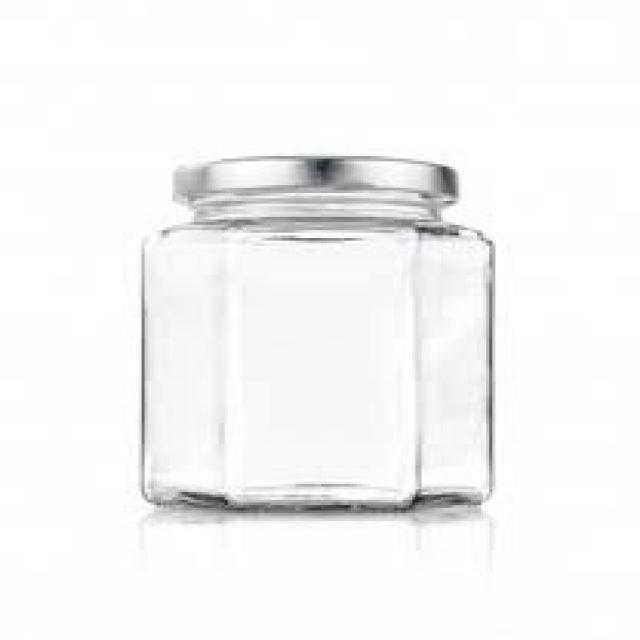metal: (176, 157, 458, 203)
